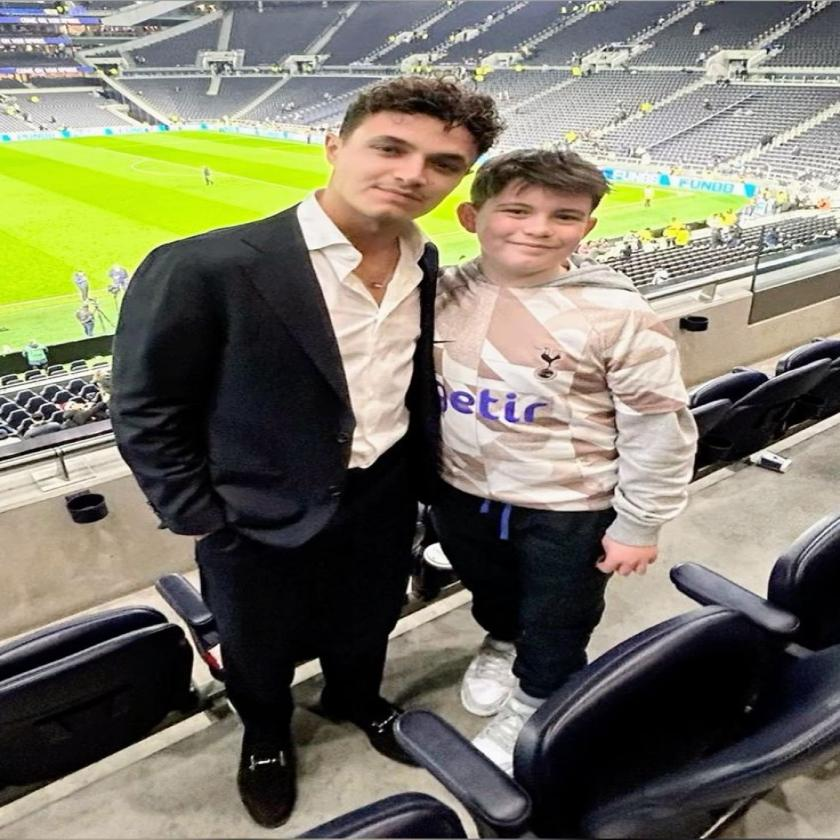Sin_casco: (312, 75, 500, 237), (464, 139, 613, 296)
